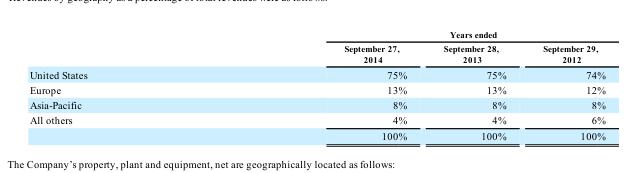table: (28, 28, 605, 141)
table column: (215, 28, 424, 141), (28, 28, 215, 141), (424, 28, 523, 141), (523, 28, 605, 141)
table column header: (28, 28, 605, 65)
table row: (28, 40, 605, 65), (28, 65, 605, 81), (28, 96, 605, 112), (28, 81, 605, 96), (28, 112, 605, 127), (28, 127, 605, 141), (28, 28, 605, 40)
table spanning cell: (215, 28, 605, 40)
